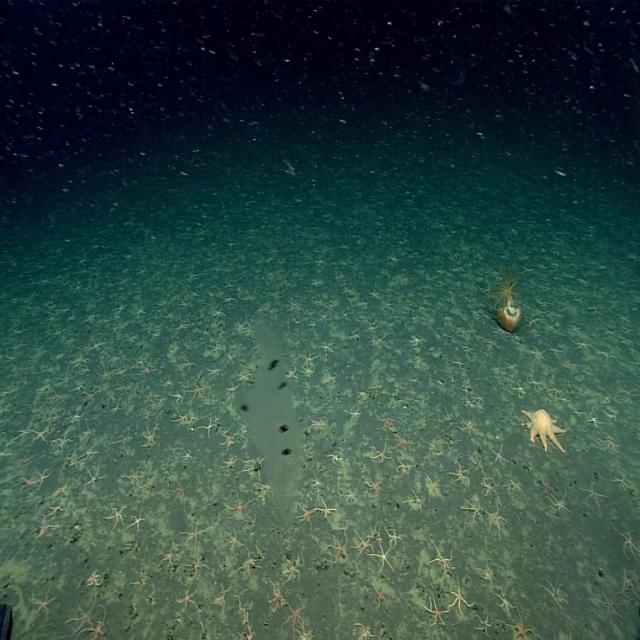brittle-stars: (283, 594, 305, 635), (180, 520, 208, 550), (69, 600, 96, 631), (421, 593, 448, 624), (616, 528, 640, 561), (224, 491, 248, 521), (328, 528, 348, 564), (509, 610, 533, 640), (450, 578, 471, 612), (431, 544, 453, 574), (88, 608, 108, 640), (579, 481, 604, 506), (31, 586, 53, 613), (184, 554, 211, 576), (596, 592, 619, 617), (283, 554, 303, 582), (352, 529, 373, 554), (269, 577, 284, 611), (175, 588, 198, 610), (234, 596, 253, 622), (374, 545, 392, 572), (489, 504, 506, 532), (85, 464, 104, 489), (550, 490, 568, 516), (105, 506, 126, 528), (496, 586, 513, 613), (475, 611, 493, 636), (169, 480, 190, 501), (242, 455, 262, 477), (34, 466, 52, 490), (160, 542, 178, 566), (222, 528, 242, 549), (296, 502, 318, 521), (372, 583, 388, 609), (372, 441, 390, 464), (452, 461, 469, 485), (393, 428, 410, 452), (426, 473, 441, 500), (317, 498, 337, 518), (353, 620, 373, 640), (464, 499, 483, 520), (128, 509, 146, 531), (244, 546, 258, 574), (459, 416, 478, 436), (526, 373, 545, 393), (82, 442, 100, 463), (190, 380, 207, 402), (407, 491, 424, 513), (48, 498, 66, 518), (143, 423, 157, 447), (366, 473, 382, 494), (468, 452, 484, 473), (491, 444, 506, 466), (601, 437, 620, 454), (142, 387, 159, 405), (507, 476, 523, 495), (78, 424, 94, 443), (258, 481, 273, 501), (572, 338, 592, 353), (128, 467, 142, 488), (613, 474, 630, 491), (30, 426, 46, 444), (72, 352, 90, 368), (86, 569, 101, 588), (397, 458, 413, 475), (310, 418, 329, 432), (386, 528, 400, 547), (532, 344, 546, 363), (202, 418, 218, 434), (220, 433, 236, 449), (302, 349, 317, 366), (345, 407, 362, 422), (379, 415, 394, 432), (98, 367, 115, 382), (220, 454, 238, 468), (548, 340, 563, 356), (207, 362, 220, 379), (407, 382, 418, 402), (173, 388, 185, 406), (47, 388, 62, 402), (549, 383, 564, 397), (456, 326, 471, 340), (452, 356, 466, 371), (346, 486, 358, 503), (16, 427, 30, 441), (558, 392, 572, 406), (181, 358, 195, 372), (54, 436, 70, 448), (567, 324, 583, 336), (514, 379, 525, 396), (245, 623, 256, 640), (429, 433, 437, 456), (302, 365, 315, 379), (324, 372, 338, 385), (226, 382, 238, 397), (238, 372, 250, 387), (409, 334, 424, 346), (213, 304, 225, 319), (69, 454, 80, 470), (312, 473, 322, 490), (226, 349, 236, 366), (461, 395, 473, 409), (320, 340, 332, 354), (542, 479, 553, 494), (182, 447, 192, 463), (235, 316, 245, 332), (174, 411, 187, 423), (286, 367, 298, 379), (474, 391, 485, 404), (341, 308, 351, 322), (85, 312, 96, 324), (475, 402, 485, 414), (210, 343, 220, 355), (320, 311, 330, 322), (224, 294, 234, 305)
